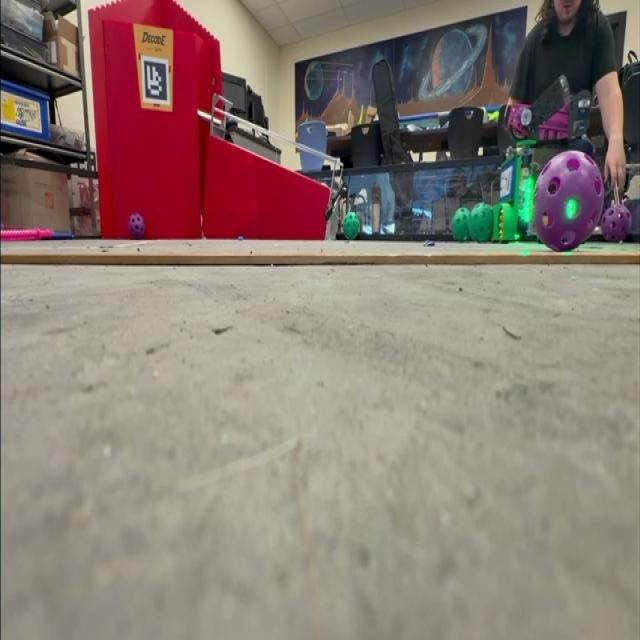artifact_green: (493, 203, 520, 242), (470, 203, 493, 242), (452, 207, 470, 242), (344, 211, 360, 239)
artifact_purple: (534, 151, 604, 250), (601, 203, 631, 242), (129, 214, 145, 239)
